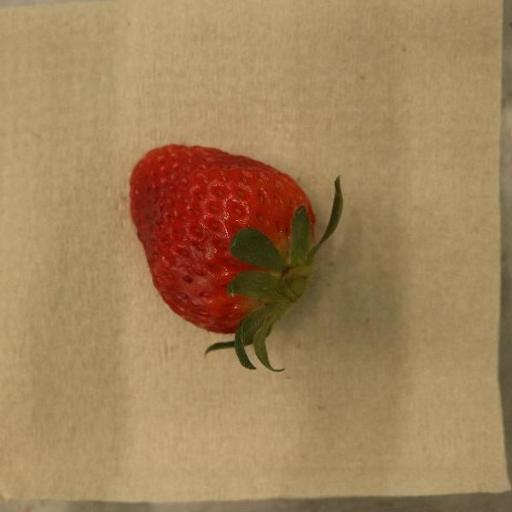Strawberry: (130, 144, 345, 373)
